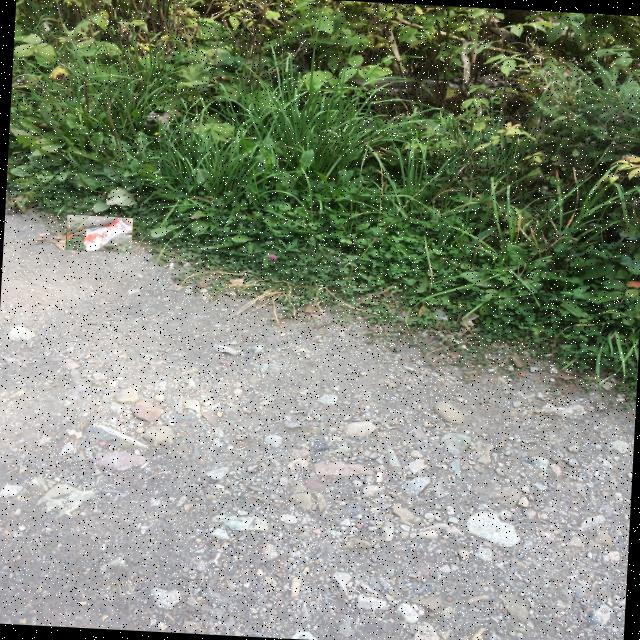Cigarette: (377, 472, 383, 482)
Other plastic: (67, 218, 133, 251)
